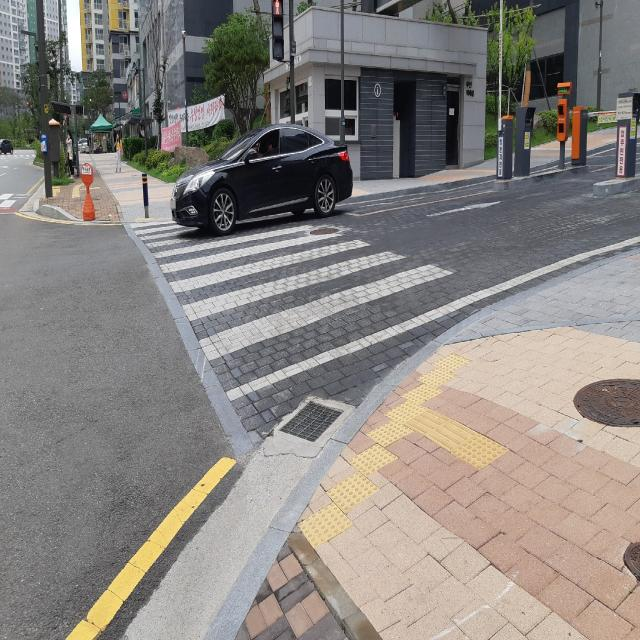횡단보도: (128, 226, 455, 364)
